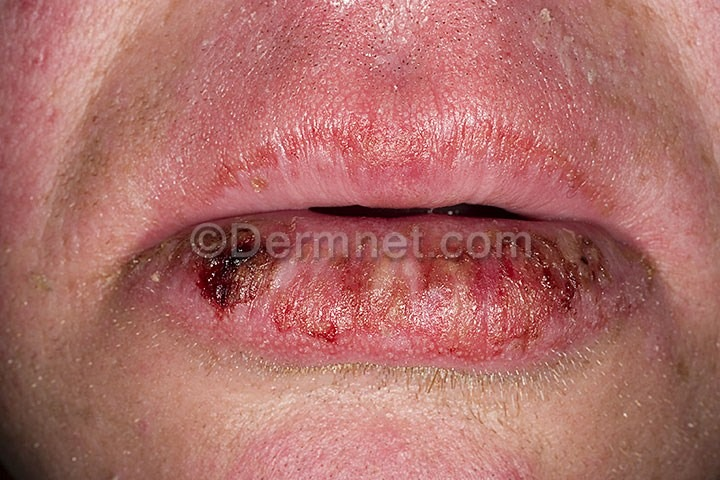Melasma: (152, 0, 651, 209), (130, 259, 716, 408), (0, 0, 70, 254)
